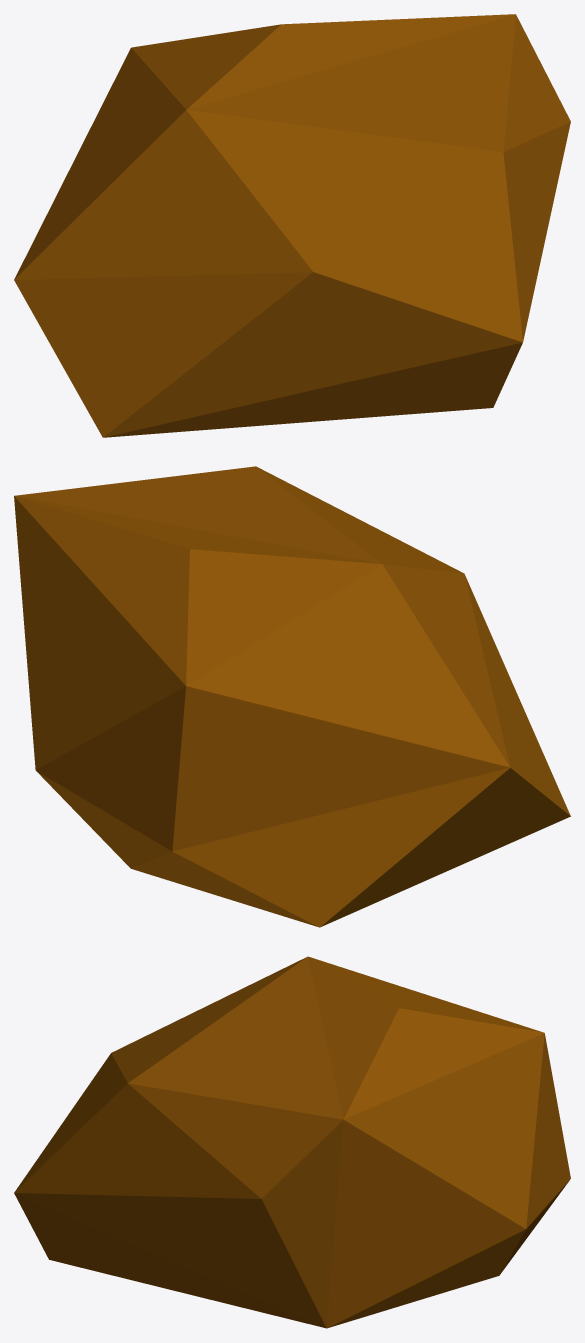
Rendered from Rock_04.fbx.
3 views of the same model, one above another, from view 1: azimuth 30°, elevation 25°; view 2: azimuth 150°, elevation 25°; view 3: azimuth 270°, elevation 25° (orthographic). The views are drawn at different scales.
Parts seen in each view (by area): view 1: Rock_04; view 2: Rock_04; view 3: Rock_04.
Boxes of the visible parts, x1,y1,x2,y2 form: Rock_04: (14,14,570,437); Rock_04: (14,466,570,927); Rock_04: (14,956,570,1328).
Bounding box in the file's own units: 111 × 60.63 × 112.
